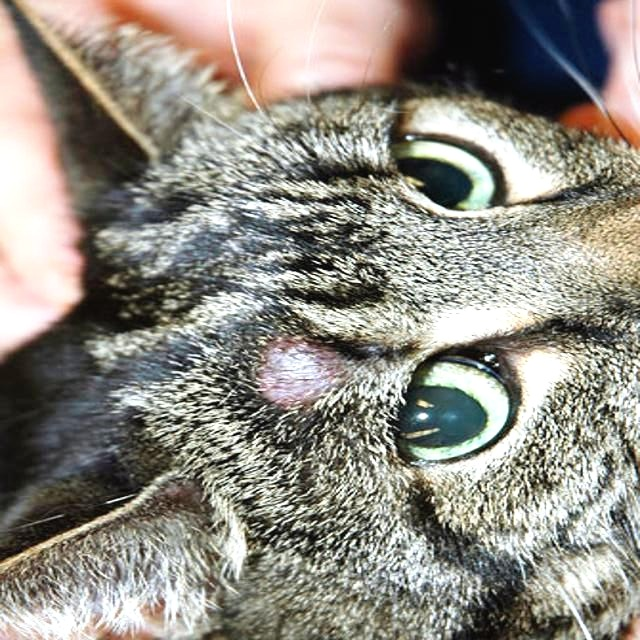lump_and_bump: (256, 338, 344, 407)
